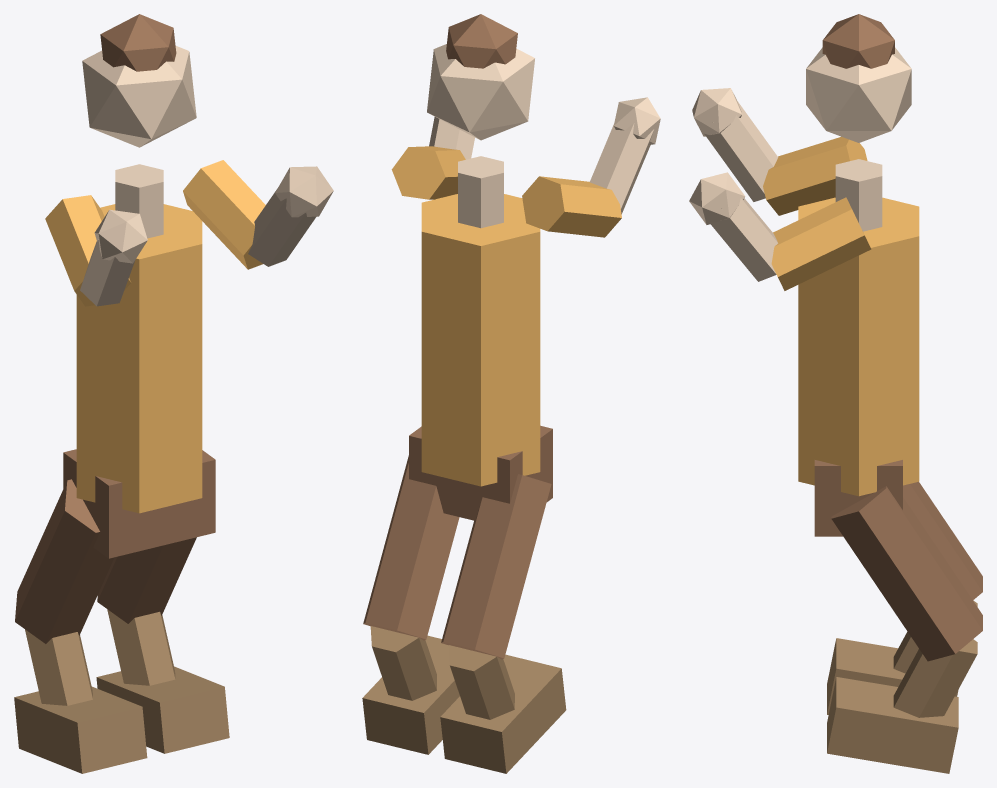
The model's file is pose_dodge_roll_05.glb.
3 renders of one model, left to right at view 1: azimuth 30°, elevation 25°; view 2: azimuth 150°, elevation 25°; view 3: azimuth 270°, elevation 25°, orthographic. The views are drawn at different scales.
Visible parts, largest first — view 1: pose; view 2: pose; view 3: pose.
Part boxes in pixels (left/top/right/bottom): pose: left=14, top=14, right=333, bottom=773; pose: left=362, top=14, right=660, bottom=773; pose: left=689, top=14, right=982, bottom=773.
Size of the model in its own units: 0.4919 by 1.54 by 0.5671.
